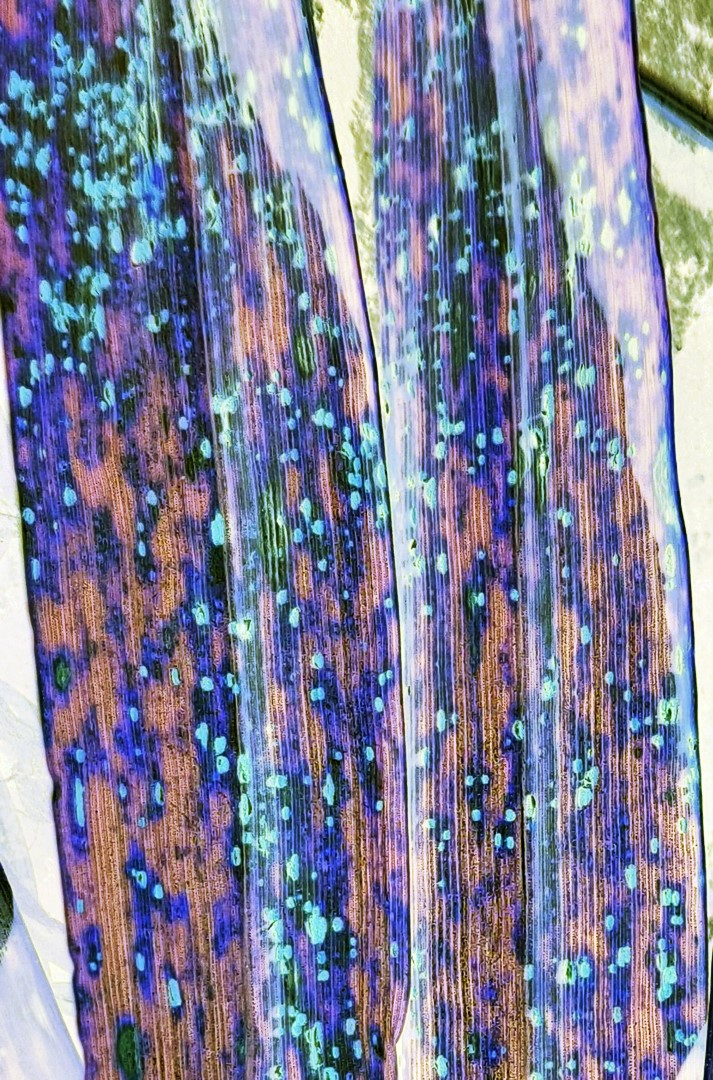Leaf Rust: (12, 66, 706, 1066)
